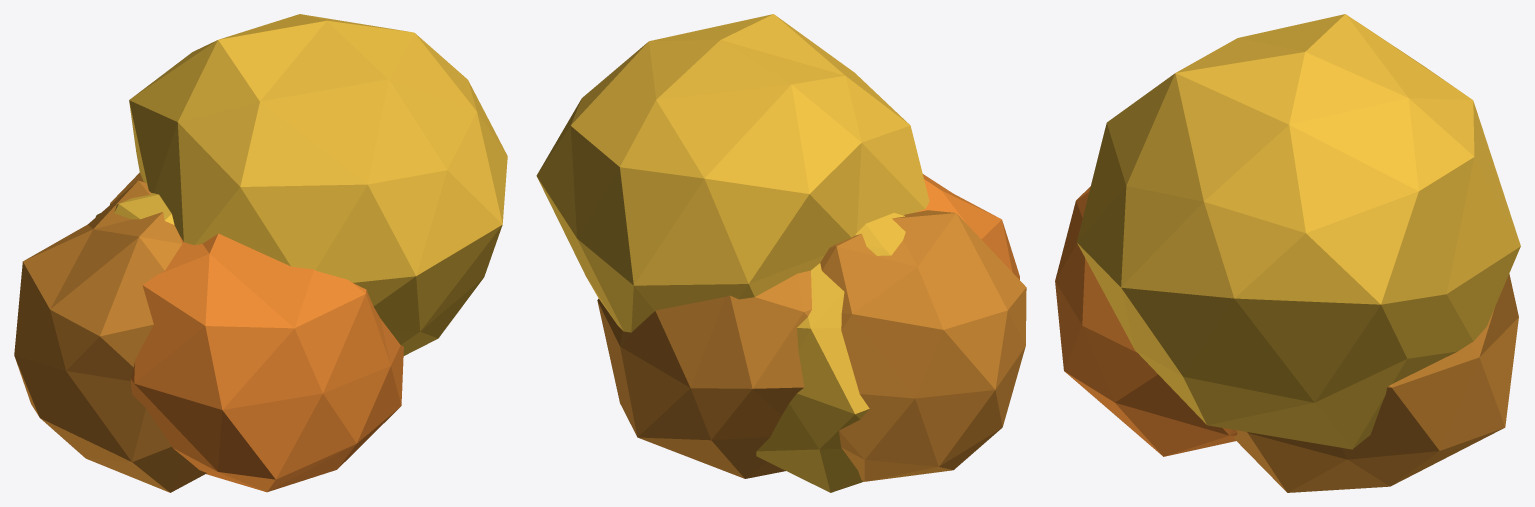
Rendered from SM_Bush_Autumn.glb.
The picture shows the model from 3 angles, left to right: view 1: azimuth 30°, elevation 25°; view 2: azimuth 150°, elevation 25°; view 3: azimuth 270°, elevation 25°; orthographic projection. The views are drawn at different scales.
Visible parts, largest first — view 1: SM_Bush_Autumn; view 2: SM_Bush_Autumn; view 3: SM_Bush_Autumn.
Part boxes in pixels (bbox=[...]): SM_Bush_Autumn: bbox=[14, 14, 507, 492]; SM_Bush_Autumn: bbox=[536, 14, 1026, 492]; SM_Bush_Autumn: bbox=[1055, 14, 1520, 492].
Size of the model in its own units: 0.9388 by 0.8098 by 0.7538.
Materials: 1 (1 with a texture image).
